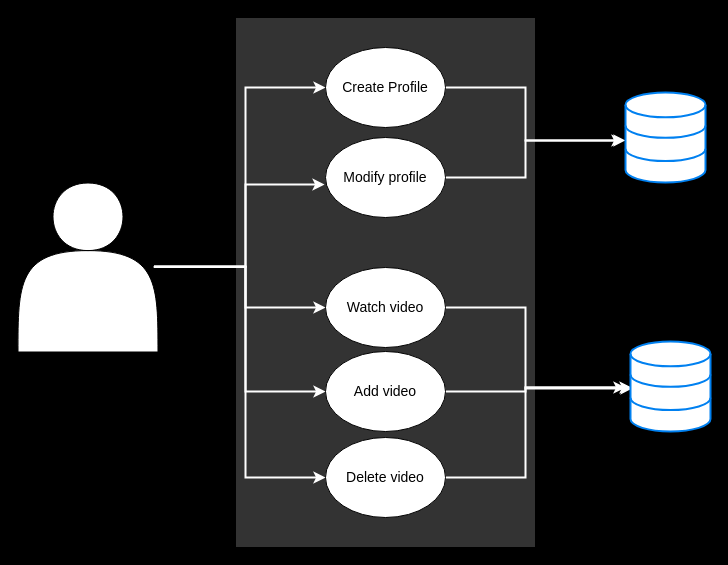
This 728x565 diagram has some shape labels left out. The shapes that lost their labels are listed below. From the top down, each one's centre as x and y in pixels, then its label:
At pixel 665 137: "User table".
At pixel 670 386: "Video table".
